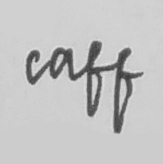a: (46, 45, 78, 82)
c: (23, 47, 44, 86)
f: (109, 45, 138, 139), (82, 39, 106, 119)
